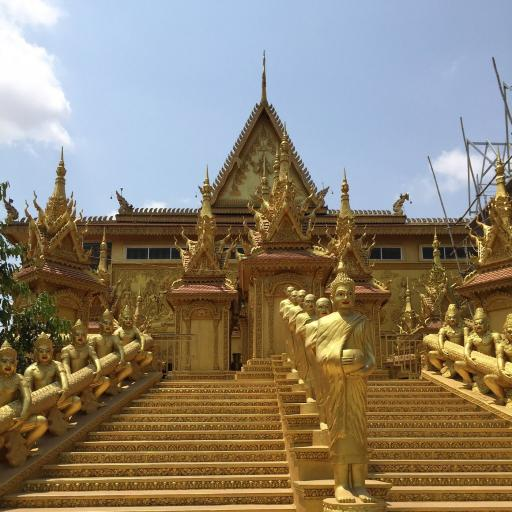lua: (257, 48, 272, 107), (485, 194, 503, 239), (466, 220, 485, 252), (470, 210, 494, 234), (218, 235, 238, 262), (214, 224, 231, 254), (180, 222, 198, 248), (242, 200, 263, 222), (252, 190, 272, 213), (60, 188, 74, 220), (308, 196, 324, 224), (21, 196, 35, 227), (364, 230, 379, 257), (236, 213, 252, 238), (29, 188, 43, 216), (236, 228, 250, 256), (170, 233, 185, 258), (295, 192, 309, 216), (259, 174, 270, 202), (342, 220, 356, 242), (231, 235, 244, 258), (356, 223, 368, 246), (71, 204, 82, 228), (322, 220, 334, 242), (70, 197, 80, 220), (78, 220, 90, 238), (316, 232, 326, 251), (288, 185, 296, 206)
ran: (104, 187, 134, 220), (392, 185, 410, 222), (254, 216, 271, 244), (302, 219, 318, 241), (38, 232, 50, 255), (80, 245, 94, 262)
than: (312, 249, 383, 509), (299, 293, 352, 450), (0, 333, 53, 463), (26, 329, 88, 438), (59, 315, 113, 415), (293, 290, 332, 424), (452, 300, 501, 392), (88, 309, 138, 392), (286, 281, 321, 399), (416, 297, 468, 375), (115, 302, 161, 385), (278, 291, 311, 392), (278, 277, 306, 385), (482, 309, 512, 409), (490, 143, 506, 187), (198, 162, 213, 202), (339, 169, 352, 196)
